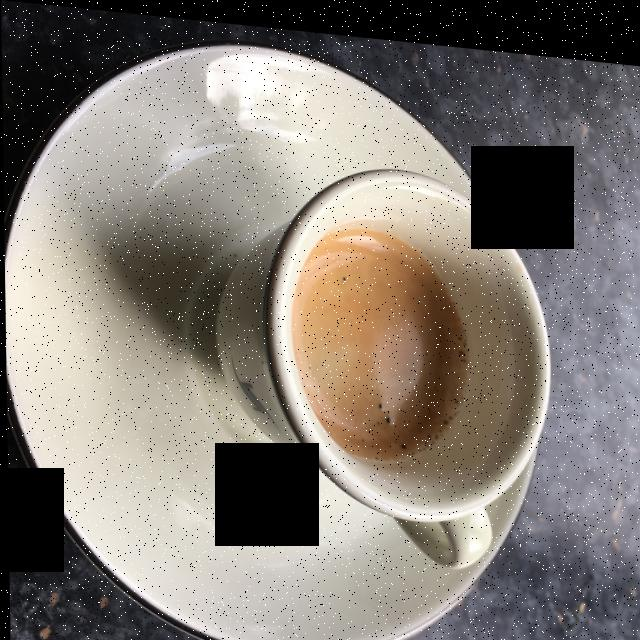espresso-with-caffeine: (296, 219, 463, 455)
